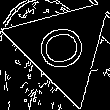O_E: (33, 19, 94, 74)
